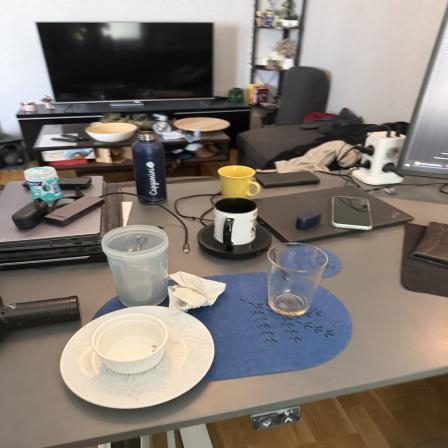blue_bottle: (132, 131, 171, 206)
phone: (330, 193, 376, 233), (255, 170, 327, 188)
yellow_cup: (218, 164, 260, 202)
